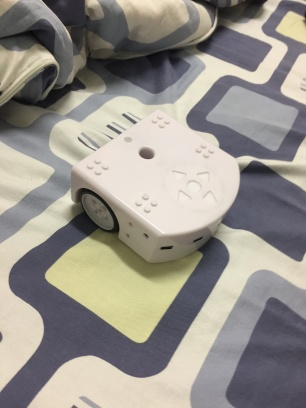thymio: (60, 106, 246, 266)
